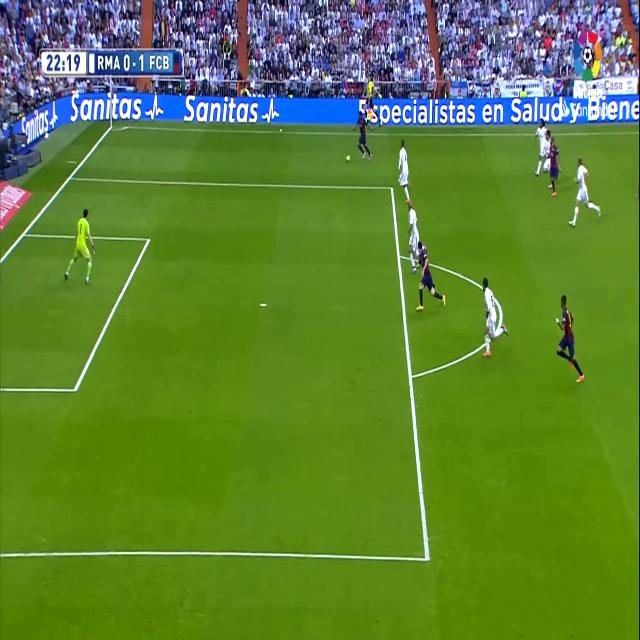bigarea_bottom_inner: (69, 374, 81, 402)
bigarea_top_inner: (631, 183, 640, 204)
bottom_arc_area_intersection: (19, 224, 28, 244)
corner: (108, 122, 116, 132)
